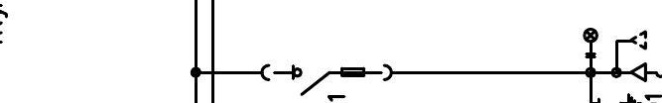22_ds: (260, 62, 394, 97)
22_ll: (582, 27, 599, 59)
terminator_w_future: (615, 30, 648, 83)
